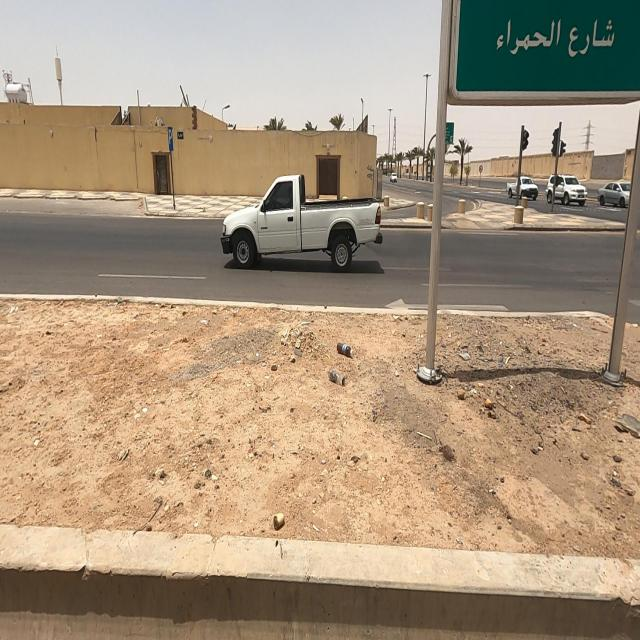Graffiti: (367, 164, 375, 181)
